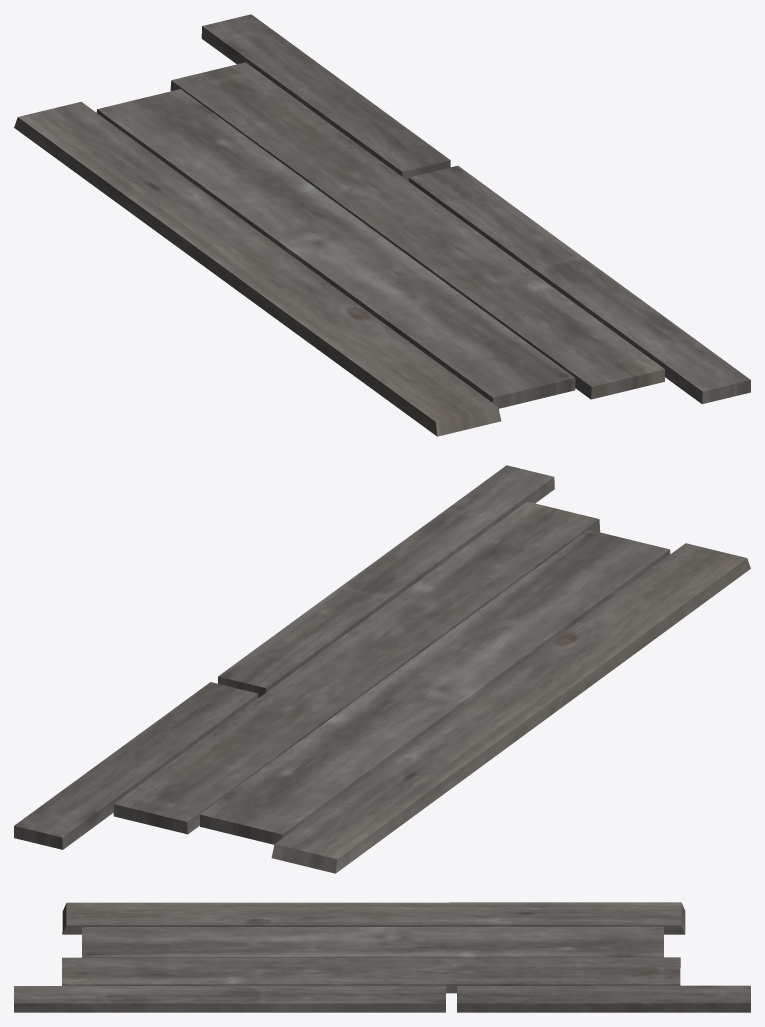
Rendered from jov_woodplate01a.fbx.
The picture shows the model from 3 angles, top to bottom: view 1: azimuth 30°, elevation 25°; view 2: azimuth 150°, elevation 25°; view 3: azimuth 270°, elevation 25°; orthographic projection. The views are drawn at different scales.
Visible parts, largest first — view 1: jov_woodplate01a; view 2: jov_woodplate01a; view 3: jov_woodplate01a.
Boxes of the visible parts, x1=… form: jov_woodplate01a: x1=14, y1=14, x2=750, y2=436; jov_woodplate01a: x1=14, y1=465, x2=750, y2=873; jov_woodplate01a: x1=14, y1=902, x2=750, y2=1012.
Size of the model in its own units: 128 by 5.48 by 392.
